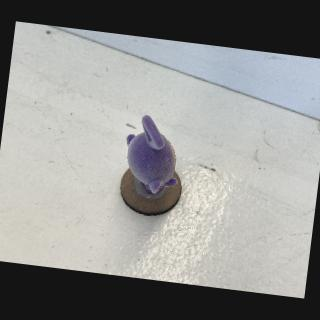teletubby: (127, 115, 177, 194)
